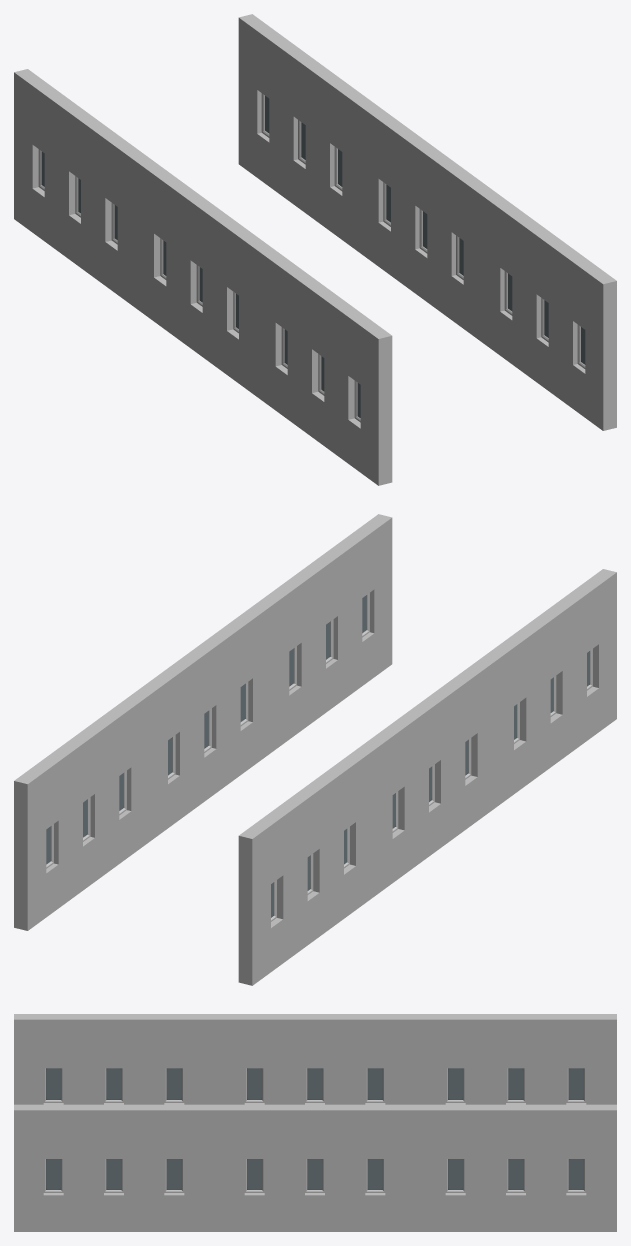
Rendered from SM_CastleLargeHouseAssambled_Cube_069.fbx.
3 views of the same model, one above another, from view 1: azimuth 30°, elevation 25°; view 2: azimuth 150°, elevation 25°; view 3: azimuth 270°, elevation 25° (orthographic). The views are drawn at different scales.
Visible parts, largest first — view 1: SM_CastleLargeHouseAssambled_Cube_069_LOD0; view 2: SM_CastleLargeHouseAssambled_Cube_069_LOD0; view 3: SM_CastleLargeHouseAssambled_Cube_069_LOD0.
Boxes of the visible parts, x1,y1,x2,y2 form: SM_CastleLargeHouseAssambled_Cube_069_LOD0: (14, 14, 616, 485); SM_CastleLargeHouseAssambled_Cube_069_LOD0: (14, 514, 616, 985); SM_CastleLargeHouseAssambled_Cube_069_LOD0: (14, 1014, 616, 1231).
Size of the model in its own units: 680 by 1800 by 400.
